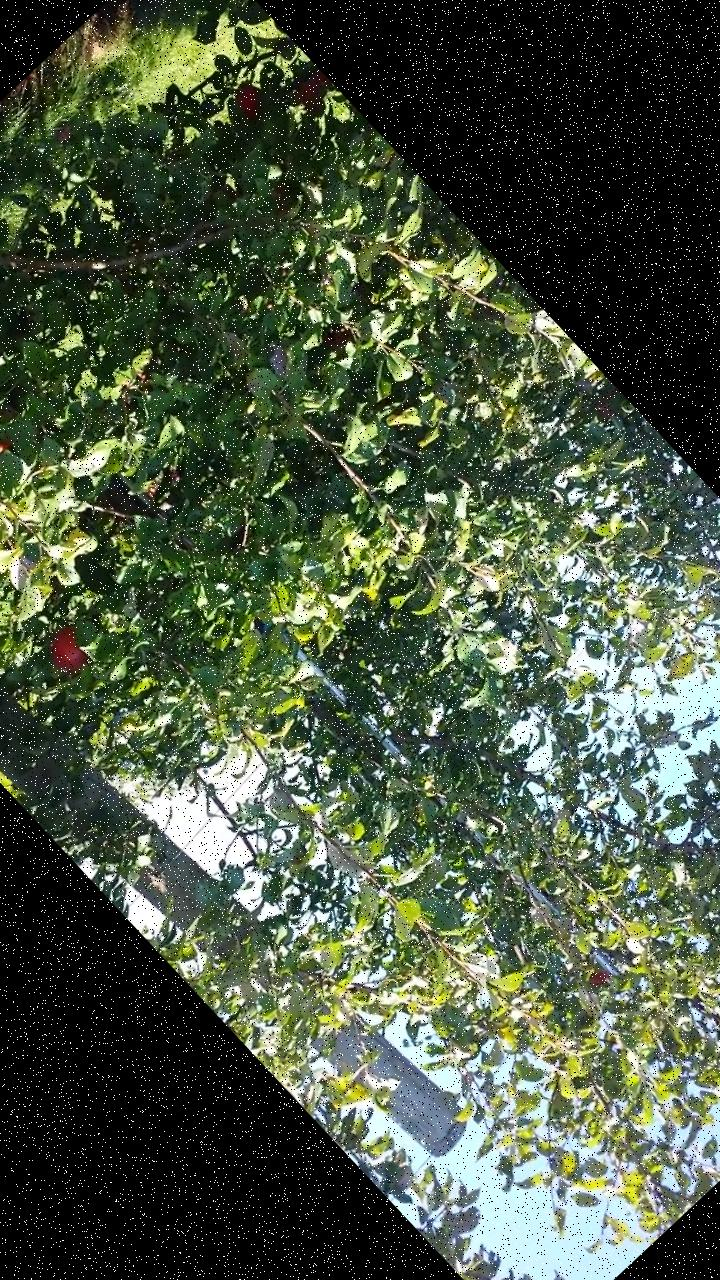Apple: (40, 618, 103, 682), (290, 66, 338, 115), (229, 76, 276, 122), (320, 320, 355, 354), (584, 963, 614, 992), (0, 431, 18, 459)
